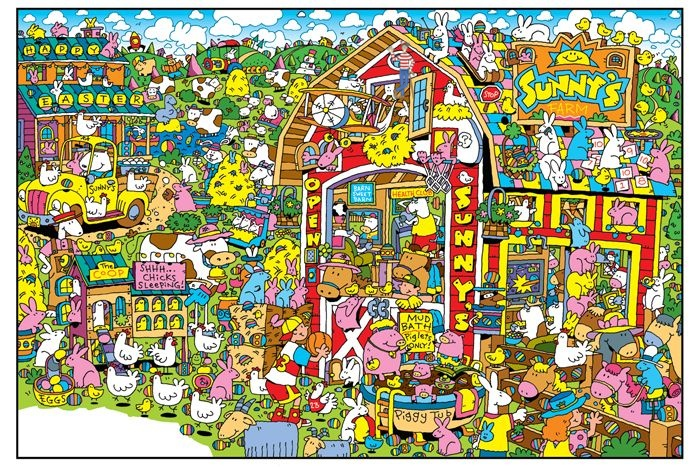waldo: (387, 40, 415, 99)
